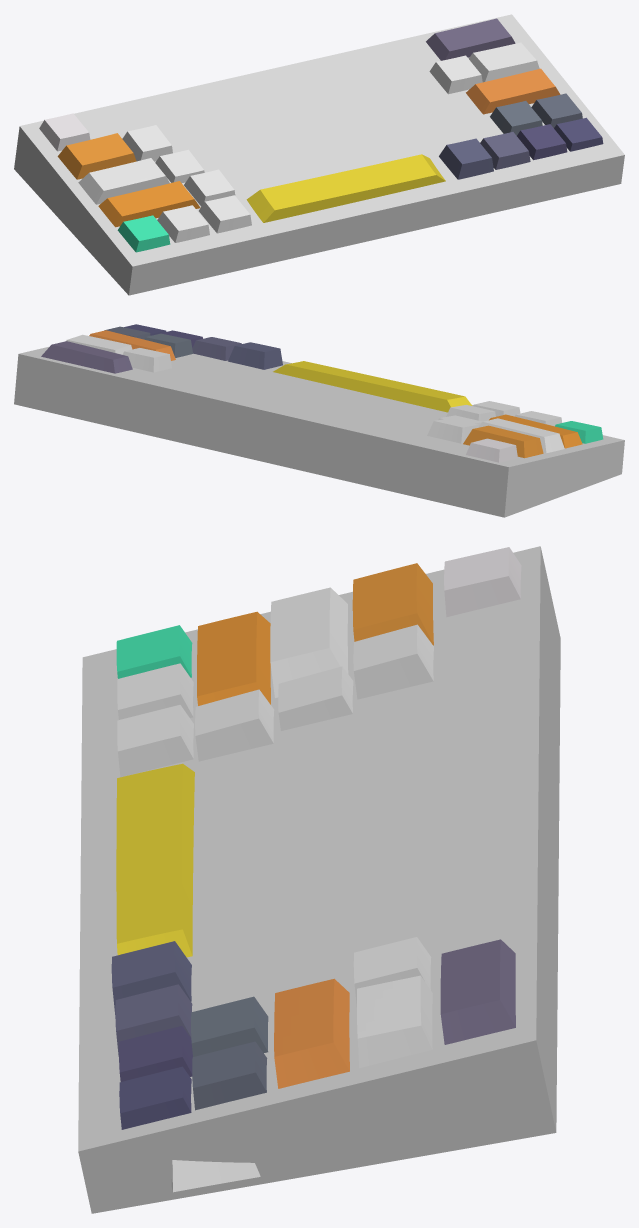
Rendered from keyboard.glb.
The picture shows the model from 3 angles, top to bottom: view 1: azimuth 30°, elevation 25°; view 2: azimuth 150°, elevation 25°; view 3: azimuth 270°, elevation 25°; orthographic projection. The views are drawn at different scales.
Visible parts, largest first — view 1: Plane, Plane.007, Plane.009, Plane.006, Plane.008, Plane.016, Plane.002, Plane.005, Plane.018, Plane.012, Plane.015, Plane.011 (+10 smaller); view 2: Plane, Plane.007, Plane.016, Plane.002, Plane.018, Plane.008, Plane.001, Plane.015, Plane.004, Plane.019, Plane.006, Plane.009 (+7 smaller); view 3: Plane, Plane.007, Plane.006, Plane.016, Plane.008, Plane.009, Plane.005, Plane.002, Plane.004, Plane.014, Plane.012, Plane.001 (+11 smaller).
Part boxes in pixels (x1=…): Plane: x1=14, y1=14, x2=624, y2=295; Plane.007: x1=246, y1=154, x2=445, y2=222; Plane.009: x1=98, y1=181, x2=200, y2=227; Plane.006: x1=466, y1=68, x2=560, y2=114; Plane.008: x1=78, y1=158, x2=169, y2=204; Plane.016: x1=426, y1=18, x2=515, y2=60; Plane.002: x1=57, y1=133, x2=136, y2=179; Plane.005: x1=468, y1=42, x2=539, y2=82; Plane.018: x1=439, y1=138, x2=493, y2=179; Plane.012: x1=199, y1=195, x2=251, y2=233; Plane.015: x1=429, y1=55, x2=482, y2=94; Plane.011: x1=157, y1=205, x2=209, y2=242; Plane: x1=14, y1=346, x2=624, y2=517; Plane.007: x1=273, y1=361, x2=472, y2=412; Plane.016: x1=41, y1=341, x2=132, y2=373; Plane.002: x1=463, y1=425, x2=543, y2=458; Plane.018: x1=228, y1=342, x2=282, y2=369; Plane.008: x1=479, y1=418, x2=564, y2=453; Plane.001: x1=466, y1=438, x2=517, y2=462; Plane.015: x1=122, y1=348, x2=171, y2=372; Plane.004: x1=427, y1=418, x2=478, y2=443; Plane.019: x1=192, y1=337, x2=241, y2=360; Plane.006: x1=89, y1=330, x2=175, y2=360; Plane.009: x1=489, y1=414, x2=582, y2=448; Plane: x1=78, y1=546, x2=560, y2=1213; Plane.007: x1=116, y1=763, x2=194, y2=957; Plane.006: x1=274, y1=978, x2=349, y2=1088; Plane.016: x1=440, y1=939, x2=515, y2=1044; Plane.008: x1=270, y1=587, x2=348, y2=697; Plane.009: x1=197, y1=611, x2=270, y2=705; Plane.005: x1=357, y1=975, x2=432, y2=1068; Plane.002: x1=352, y1=563, x2=433, y2=645; Plane.004: x1=353, y1=624, x2=433, y2=699; Plane.014: x1=195, y1=689, x2=274, y2=761; Plane.012: x1=117, y1=705, x2=193, y2=777; Plane.001: x1=444, y1=547, x2=521, y2=617.
Size of the model in its own units: 10.16 by 2.01 by 4.26.
